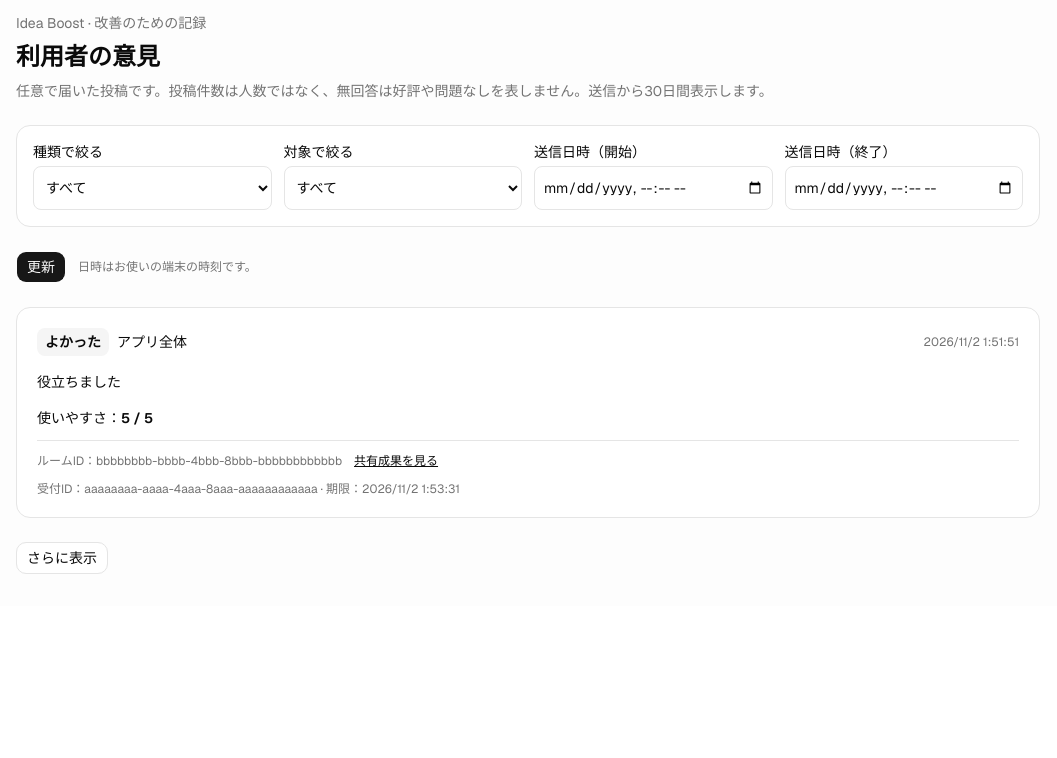
Test: 続きの503取得失敗では既読一覧を残し、再試行は同じ取得位置から重複なく追加する
expect the text "役立ちました" is shown: met, box [37, 373, 121, 391]
Click the button "さらに表示": (62, 558) [16, 542, 108, 574]
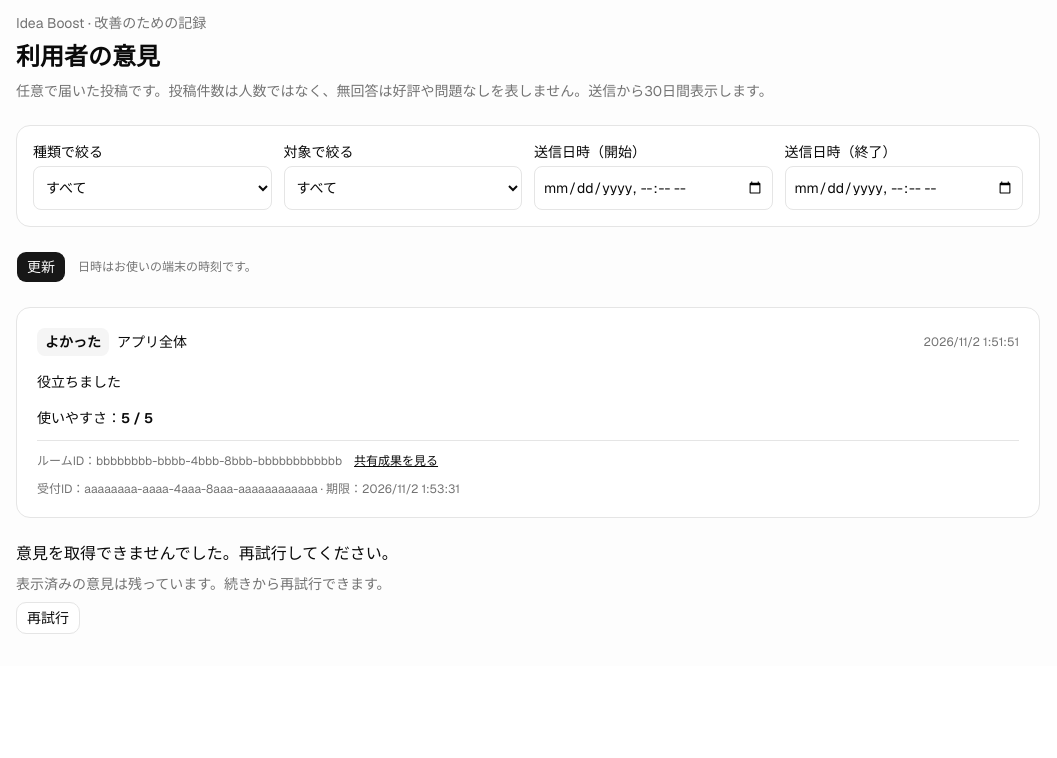
expect the text "役立ちました" is shown: met, box [37, 373, 121, 391]
expect the text "意見を取得できませんでした。再試行してください。" is shown: met, box [16, 543, 398, 564]
Click the button "再試行": (48, 618) [16, 602, 80, 634]
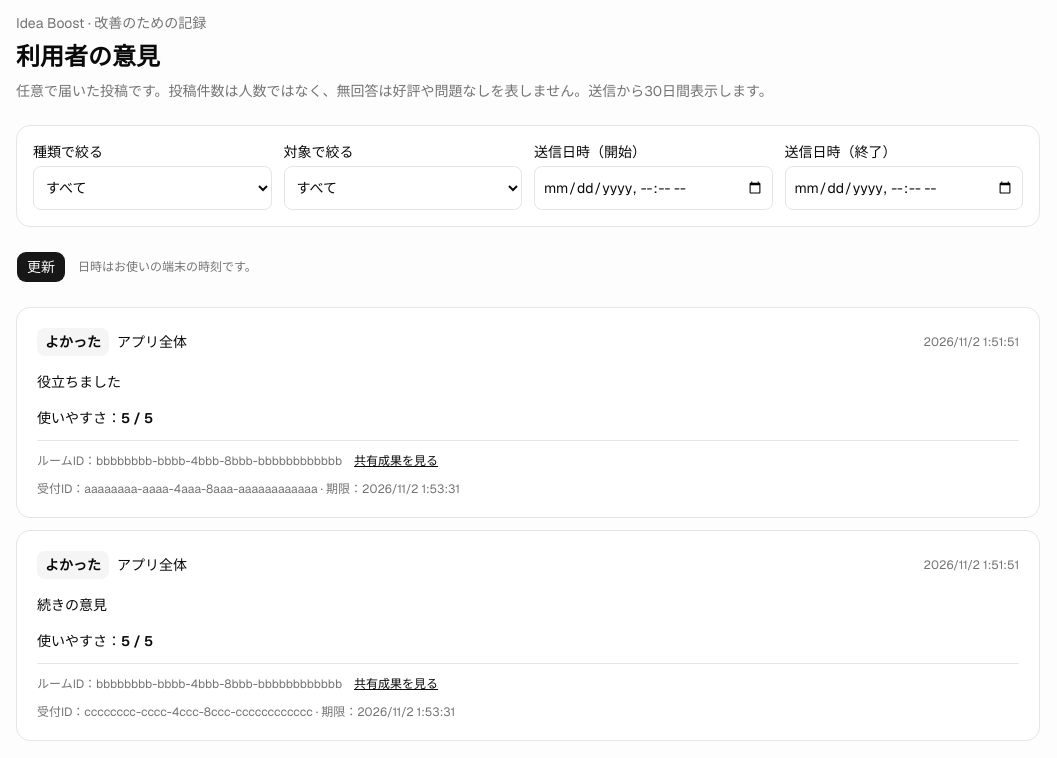
expect the text "役立ちました" is shown once: met, box [37, 373, 121, 391]
expect the text "続きの意見" is shown: met, box [37, 596, 107, 614]
